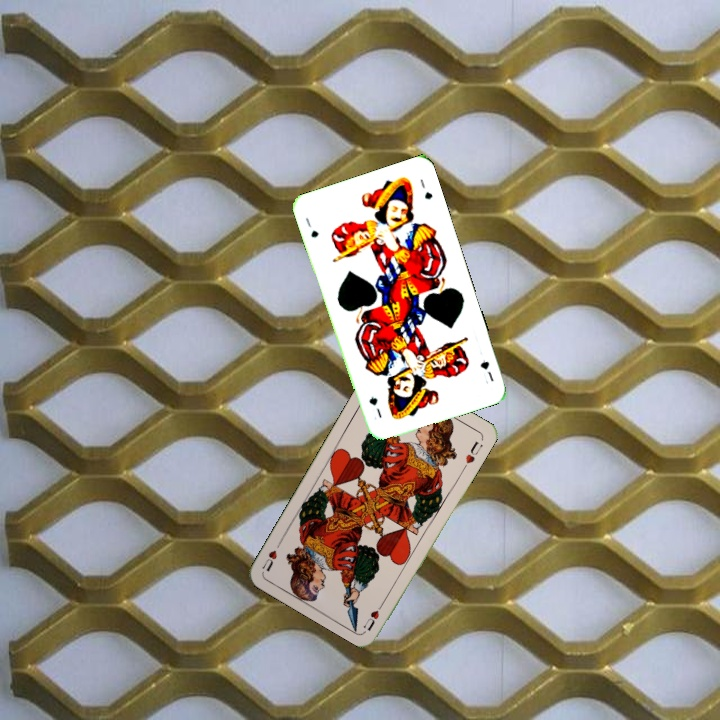GU: (476, 356, 497, 384), (301, 214, 321, 240)
HU: (360, 596, 387, 634)
